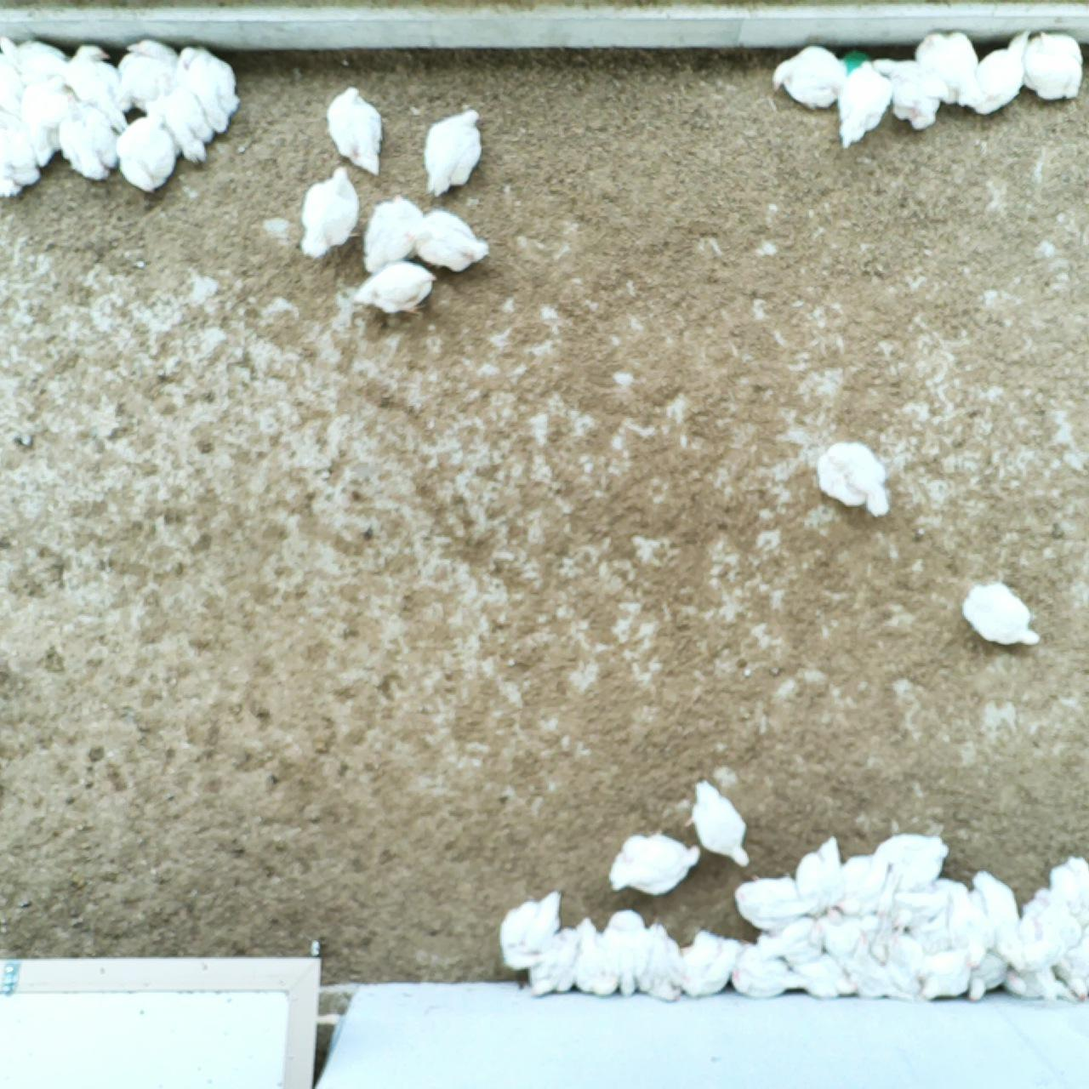chicken: (172, 43, 243, 137), (144, 71, 214, 166), (58, 40, 127, 132), (682, 776, 752, 865), (405, 207, 493, 277), (816, 439, 891, 521), (858, 829, 949, 896), (51, 81, 113, 178), (607, 833, 703, 895), (961, 578, 1044, 649), (323, 85, 387, 177), (296, 165, 358, 258), (421, 104, 483, 196), (498, 889, 565, 972), (965, 30, 1030, 115), (819, 849, 890, 925), (113, 36, 178, 119), (110, 114, 178, 193), (16, 80, 77, 168), (628, 916, 687, 1004), (768, 43, 847, 108), (600, 908, 654, 1001), (360, 195, 425, 271), (876, 58, 945, 129), (835, 57, 888, 148), (918, 30, 983, 103), (673, 926, 737, 999), (842, 929, 903, 1003), (794, 831, 846, 916), (737, 875, 815, 931), (1022, 29, 1084, 98), (524, 923, 583, 995), (352, 265, 441, 312), (948, 884, 998, 967), (570, 913, 619, 997), (967, 869, 1020, 945), (1020, 885, 1085, 946), (731, 941, 800, 998), (1002, 911, 1062, 975), (0, 109, 43, 198), (892, 881, 949, 948), (787, 947, 858, 998), (1001, 961, 1078, 1007), (756, 914, 825, 963), (878, 924, 923, 999), (1041, 847, 1089, 916), (1051, 920, 1089, 1002), (916, 944, 971, 1000), (0, 35, 66, 81), (962, 947, 1012, 1006), (817, 913, 880, 955), (0, 50, 26, 111)
